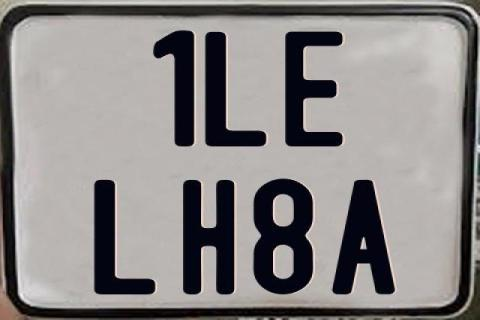0: (251, 178, 313, 298), (152, 30, 193, 148)
A: (331, 180, 396, 294)
E: (282, 29, 344, 147)
H: (182, 178, 236, 294)
L: (91, 178, 155, 296), (205, 31, 266, 149)
